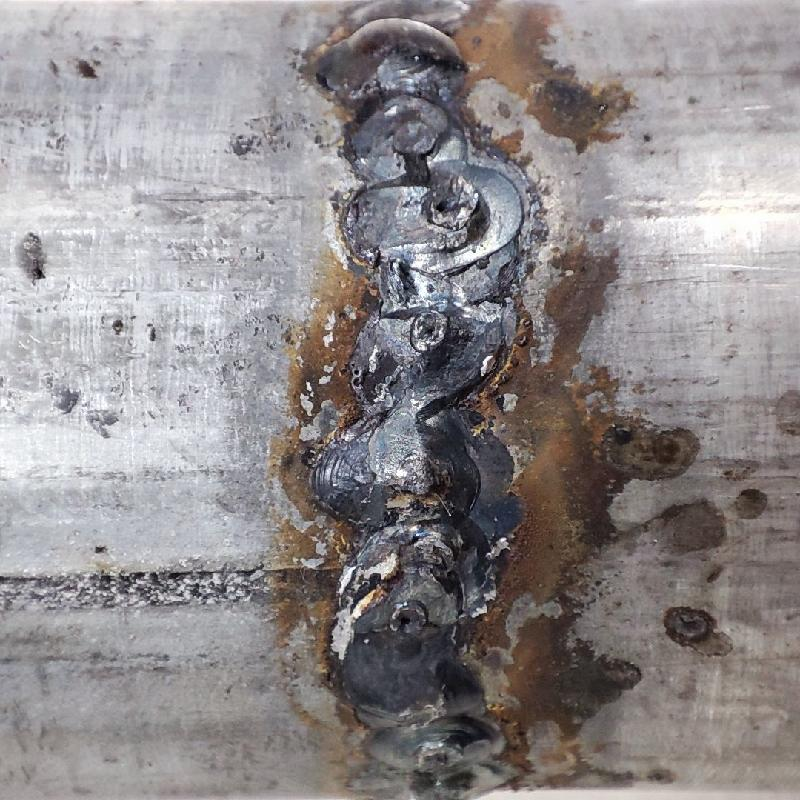Surface_pores: (406, 312, 454, 356), (422, 187, 468, 230), (383, 605, 420, 635)
Weld: (313, 23, 468, 98)
wrong_size: (298, 0, 527, 795)
